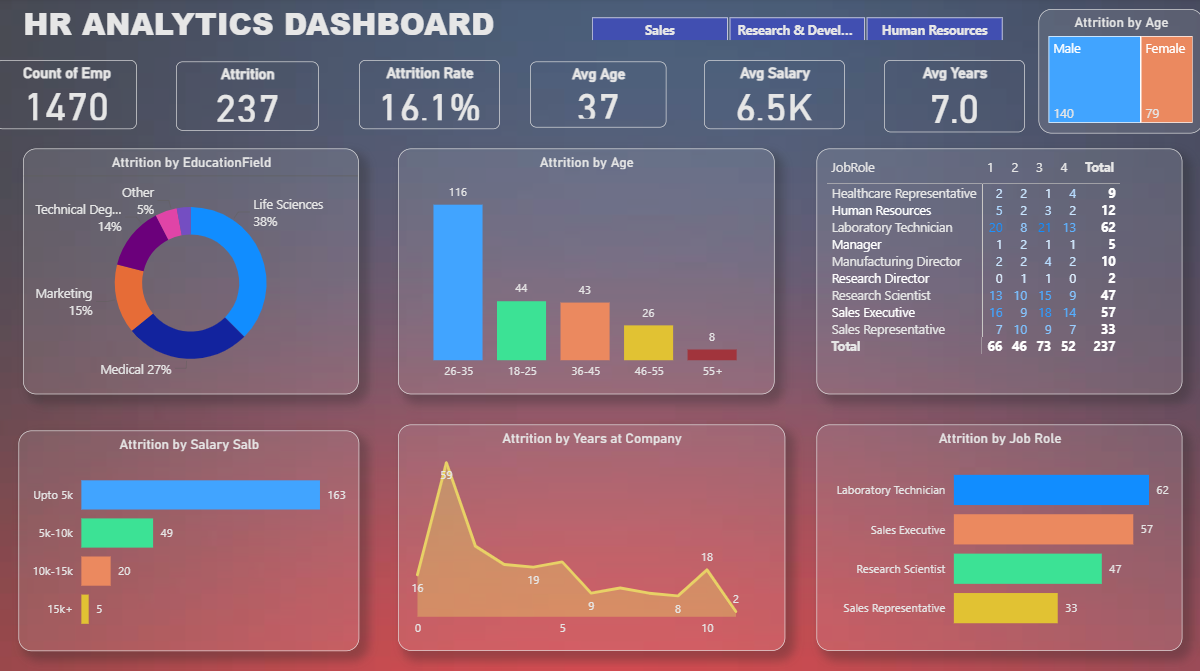

Layout of this report page (visuals, bound fields, positions):
{"tool":"powerbi","page":{"name":"HR_Analytics_Dashboard","canvas":[1280,720],"ordinal":0},"visuals":[{"type":"card","title":"Count of Emp","fields":{"Values":["CountNonNull(HR_Analytics (1).EmpID)"]},"box":[0,66.8,149.5,73.2],"z":0},{"type":"card","title":"Attrition","fields":{"Values":["Sum(HR_Analytics (1).AttritionCount)"]},"box":[190.9,68.4,151.1,73.2],"z":1000},{"type":"card","title":"Attrition Rate","fields":{"Values":["HR_Analytics (1).AttritionRate"]},"box":[384.9,66.8,149.5,73.2],"z":2000},{"type":"card","title":"Avg Age","fields":{"Values":["Avg(HR_Analytics (1).Age)"]},"box":[566.3,68.4,144.7,70],"z":3000},{"type":"card","title":"Avg Salary","fields":{"Values":["Avg(HR_Analytics (1).MonthlyIncome)"]},"box":[750.8,66.8,149.5,73.2],"z":4000},{"type":"card","title":"Avg Years","fields":{"Values":["Avg(HR_Analytics (1).YearsAtCompany)"]},"box":[941.6,66.8,149.5,76.3],"z":5000},{"type":"donutChart","title":"Attrition by EducationField","fields":{"Category":["HR_Analytics (1).EducationField"],"Y":["Sum(HR_Analytics (1).AttritionCount)"]},"box":[28.6,160.7,356.3,260.9],"z":6000},{"type":"columnChart","title":"Attrition by Age","fields":{"Category":["HR_Analytics (1).AgeGroup"],"Y":["Sum(HR_Analytics (1).AttritionCount)"]},"box":[426.3,160.7,399.2,260.9],"z":7000},{"type":"pivotTable","fields":{"Rows":["HR_Analytics (1).JobRole"],"Columns":["HR_Analytics (1).JobSatisfaction"],"Values":["Sum(HR_Analytics (1).AttritionCount)"]},"box":[870.1,160.7,388.1,260.9],"z":8000},{"type":"barChart","title":"Attrition by Salary Salb","fields":{"Category":["HR_Analytics (1).SalarySlab"],"Y":["Sum(HR_Analytics (1).AttritionCount)"]},"box":[23.9,459.7,361.1,233.8],"z":9000},{"type":"barChart","title":"Attrition by Job Role","fields":{"Category":["HR_Analytics (1).JobRole"],"Y":["Sum(HR_Analytics (1).AttritionCount)"]},"box":[870.1,453.3,388.1,240.2],"z":10000},{"type":"areaChart","title":"Attrition by Years at Company","fields":{"Category":["HR_Analytics (1).YearsAtCompany"],"Y":["Sum(HR_Analytics (1).AttritionCount)"]},"box":[426.3,453.3,410.4,240.2],"z":11000},{"type":"treemap","title":"Attrition by Age","fields":{"Group":["HR_Analytics (1).Gender"],"Values":["Sum(HR_Analytics (1).AttritionCount)"]},"box":[1105.5,12.7,175,132],"z":12000},{"type":"slicer","fields":{"Values":["HR_Analytics (1).Department"]},"box":[606,14.3,485.1,31],"z":13000},{"type":"textbox","box":[23.9,0,540.8,55.7],"z":14000}]}

Visuals, with their boxes in screenshot pixels (x1, y1, x2, y2), scaled from the page's 1280x720 canvas onto the 1200x671 screenshot:
"Count of Emp" card: box(0, 62, 140, 130)
"Attrition" card: box(179, 64, 321, 132)
"Attrition Rate" card: box(361, 62, 501, 130)
"Avg Age" card: box(531, 64, 667, 129)
"Avg Salary" card: box(704, 62, 844, 130)
"Avg Years" card: box(883, 62, 1023, 133)
"Attrition by EducationField" donutChart: box(27, 150, 361, 393)
"Attrition by Age" columnChart: box(400, 150, 774, 393)
pivotTable - HR_Analytics (1).JobRole x HR_Analytics (1).JobSatisfaction: box(816, 150, 1180, 393)
"Attrition by Salary Salb" barChart: box(22, 428, 361, 646)
"Attrition by Job Role" barChart: box(816, 422, 1180, 646)
"Attrition by Years at Company" areaChart: box(400, 422, 784, 646)
"Attrition by Age" treemap: box(1036, 12, 1199, 135)
slicer - HR_Analytics (1).Department: box(568, 13, 1023, 42)
textbox: box(22, 0, 529, 52)
